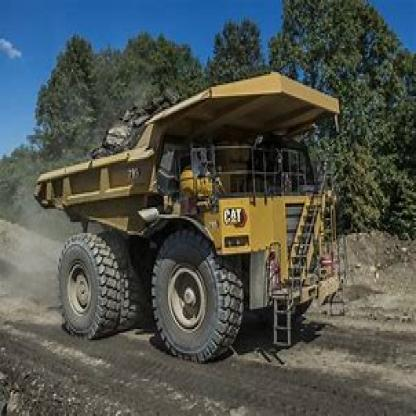dump_truck: (29, 65, 347, 362)
